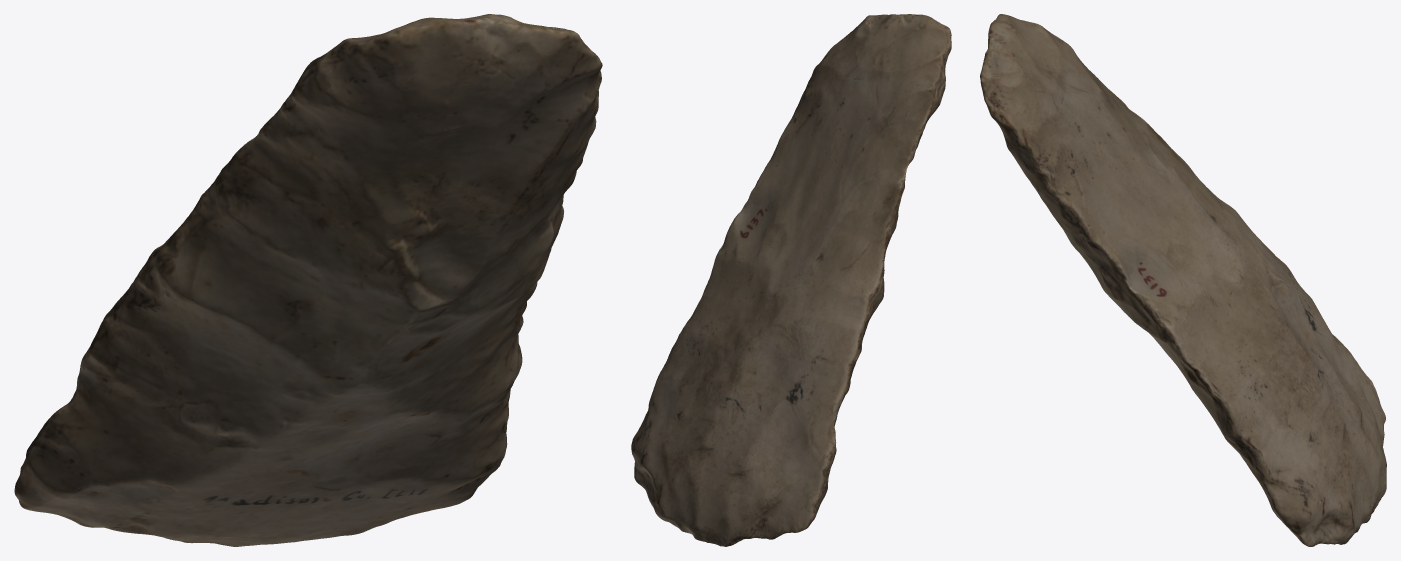
3 renders of one model, left to right at view 1: azimuth 30°, elevation 25°; view 2: azimuth 150°, elevation 25°; view 3: azimuth 270°, elevation 25°, orthographic. The views are drawn at different scales.
Parts seen in each view (by area): view 1: Node; view 2: Node; view 3: Node.
Part boxes in pixels (bbox=[...]): Node: bbox=[14, 14, 602, 546]; Node: bbox=[631, 14, 951, 546]; Node: bbox=[980, 14, 1386, 546].
Bounding box in the file's own units: 1.03 × 1.85 × 1.47.
Materials: 1 (1 with a texture image).
